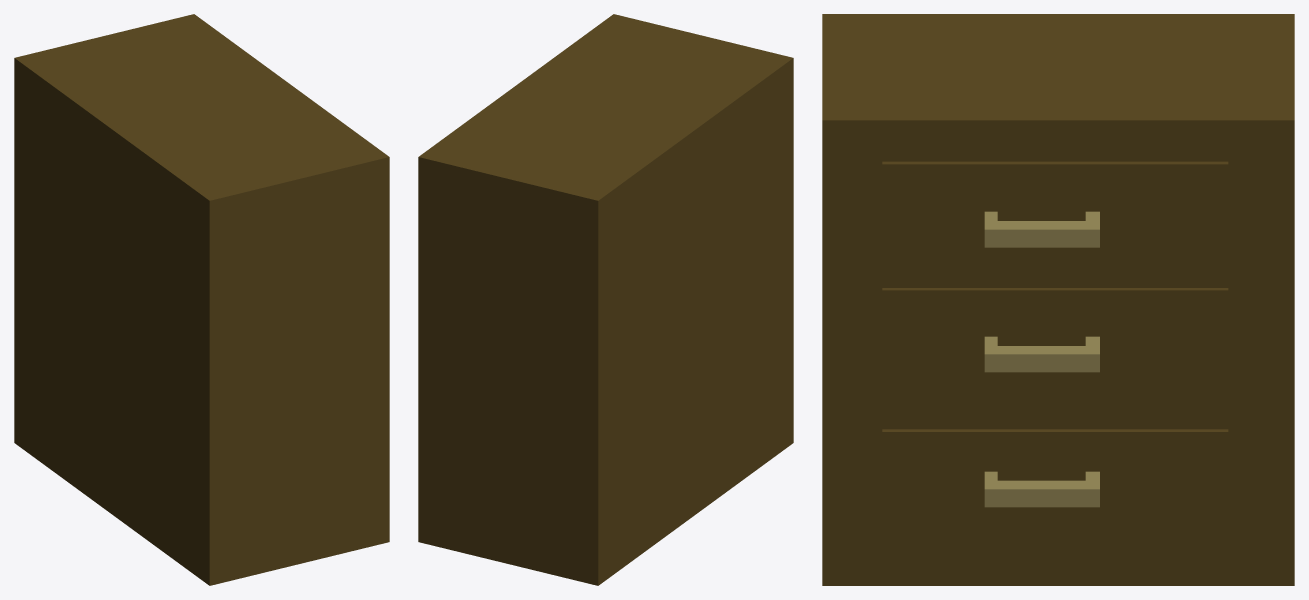
File: drawer_1.fbx
3 views of the same model, side by side, from view 1: azimuth 30°, elevation 25°; view 2: azimuth 150°, elevation 25°; view 3: azimuth 270°, elevation 25° (orthographic). The views are drawn at different scales.
Visible parts, largest first — view 1: drawer1; view 2: drawer1; view 3: drawer1.
Boxes of the visible parts, bbox=[...] form: drawer1: bbox=[14, 14, 389, 585]; drawer1: bbox=[418, 14, 793, 585]; drawer1: bbox=[822, 14, 1294, 585].
Bounding box in the file's own units: 9.01 × 15.43 × 14.19.
